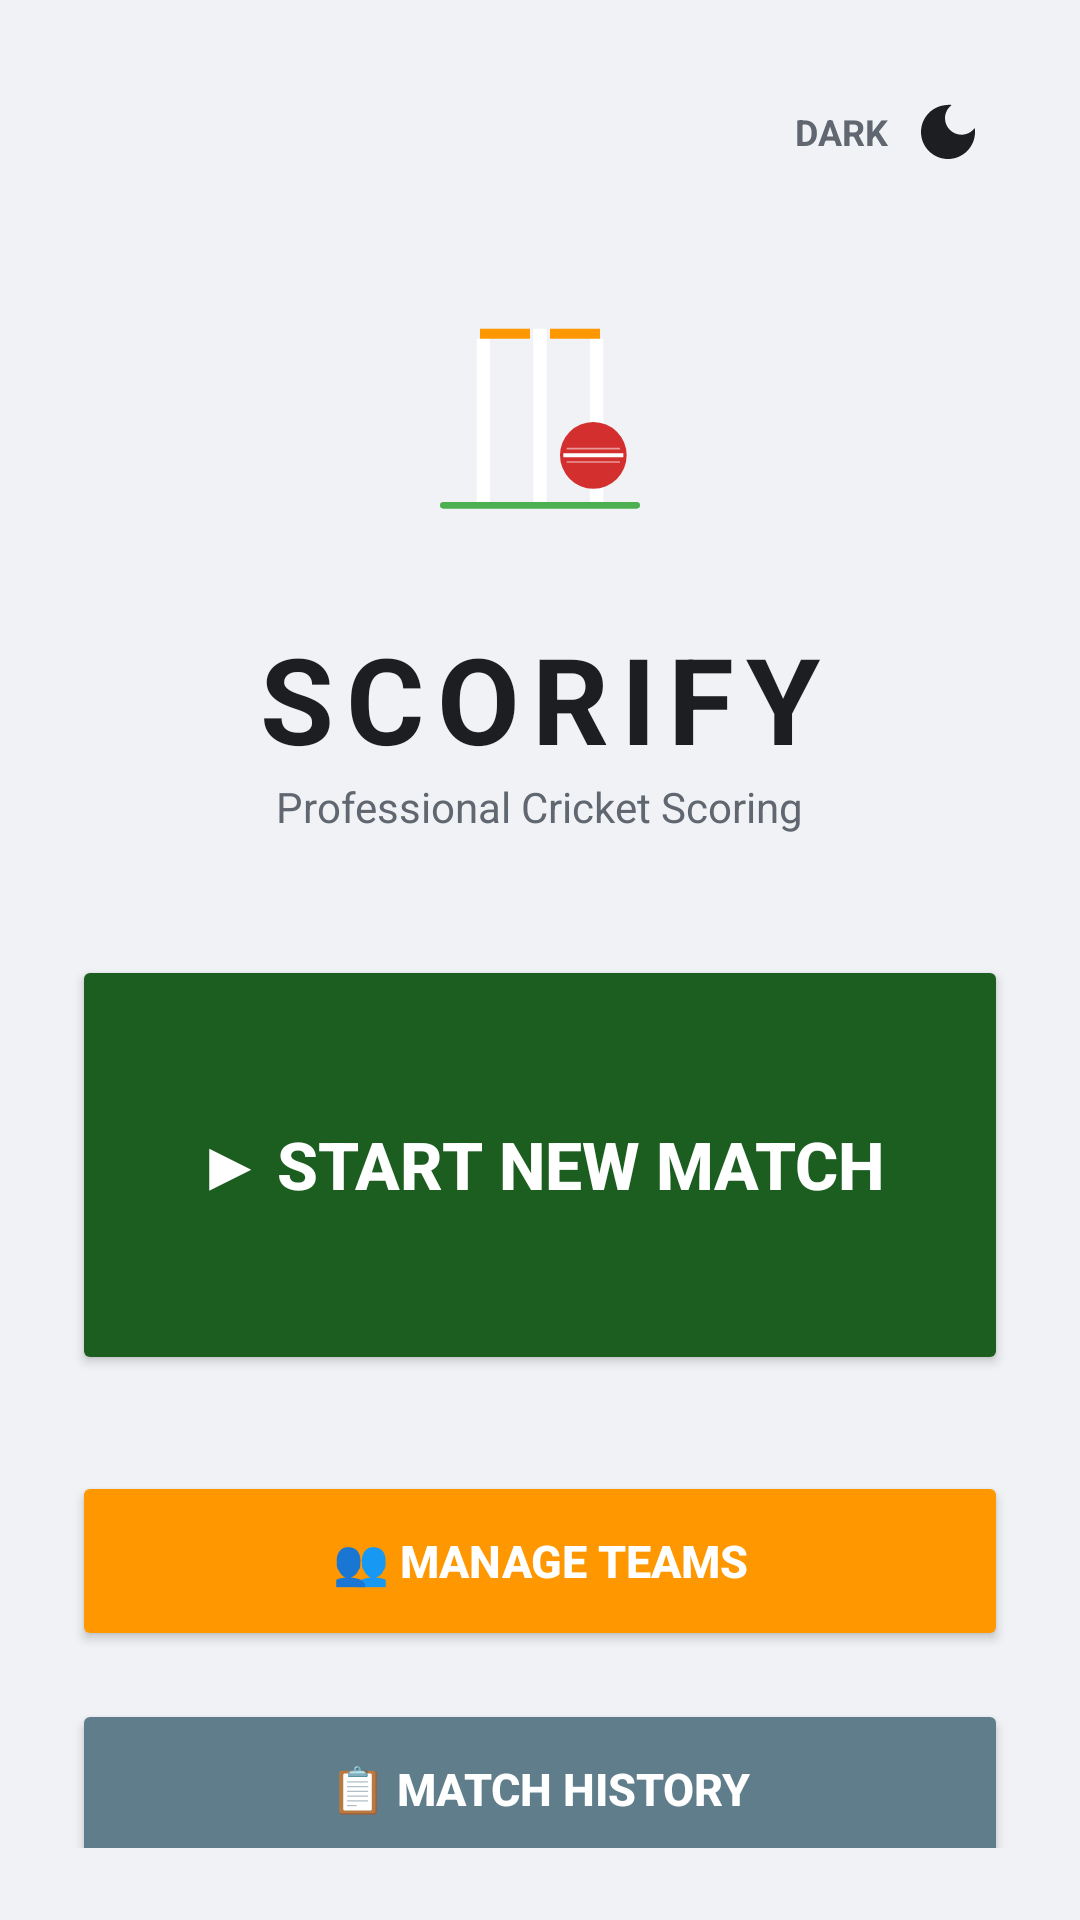

Locate icon controls on the screen. Image size 1080x1920, boxes as (x1, y1, x2, y2).
moon: (921, 104, 975, 159)
